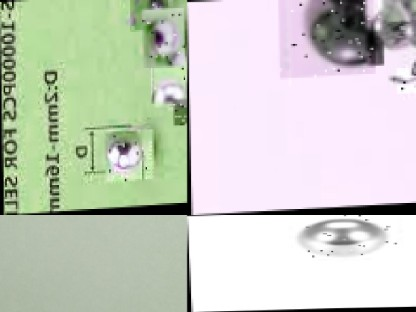ironball: (278, 0, 375, 77), (290, 215, 398, 259), (105, 127, 151, 181), (142, 8, 184, 67), (153, 61, 186, 107), (129, 0, 168, 30), (377, 0, 412, 21), (396, 67, 415, 94), (173, 99, 186, 126)
